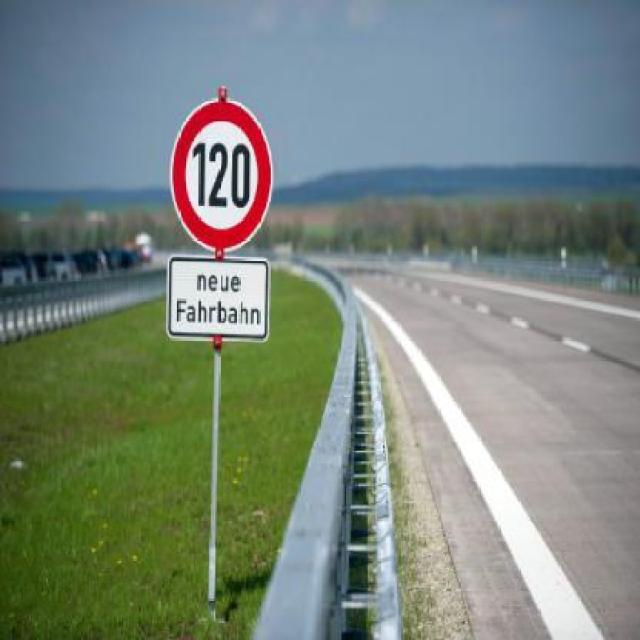forb_speed_over_120: (175, 96, 270, 252)
